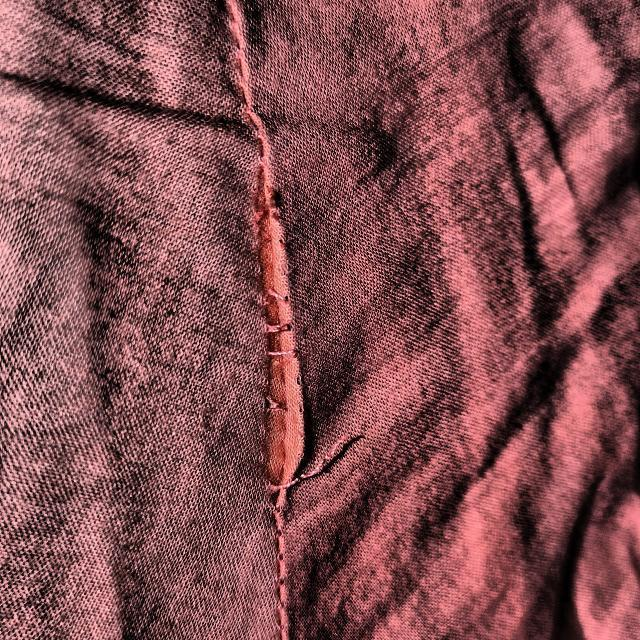gray stitch: (211, 127, 373, 512)
